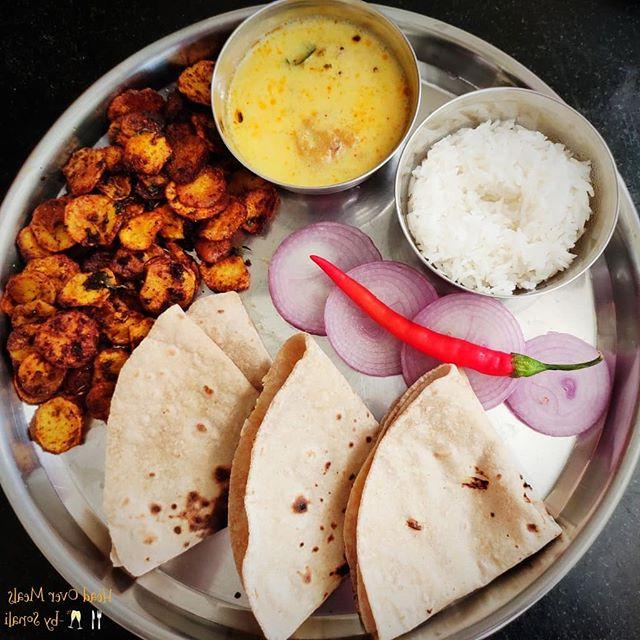Roti: (347, 387, 562, 622), (218, 356, 386, 617), (106, 304, 269, 558)
White Rice: (388, 104, 606, 290)
